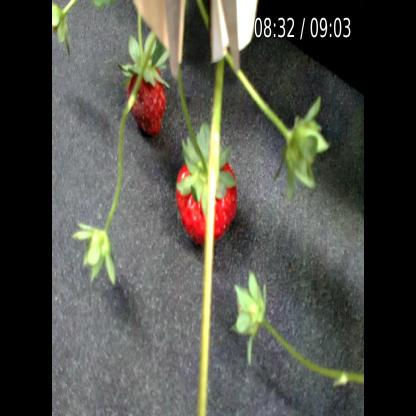ripe: (169, 147, 243, 249), (124, 59, 166, 142)
unripe: (235, 281, 262, 335)
